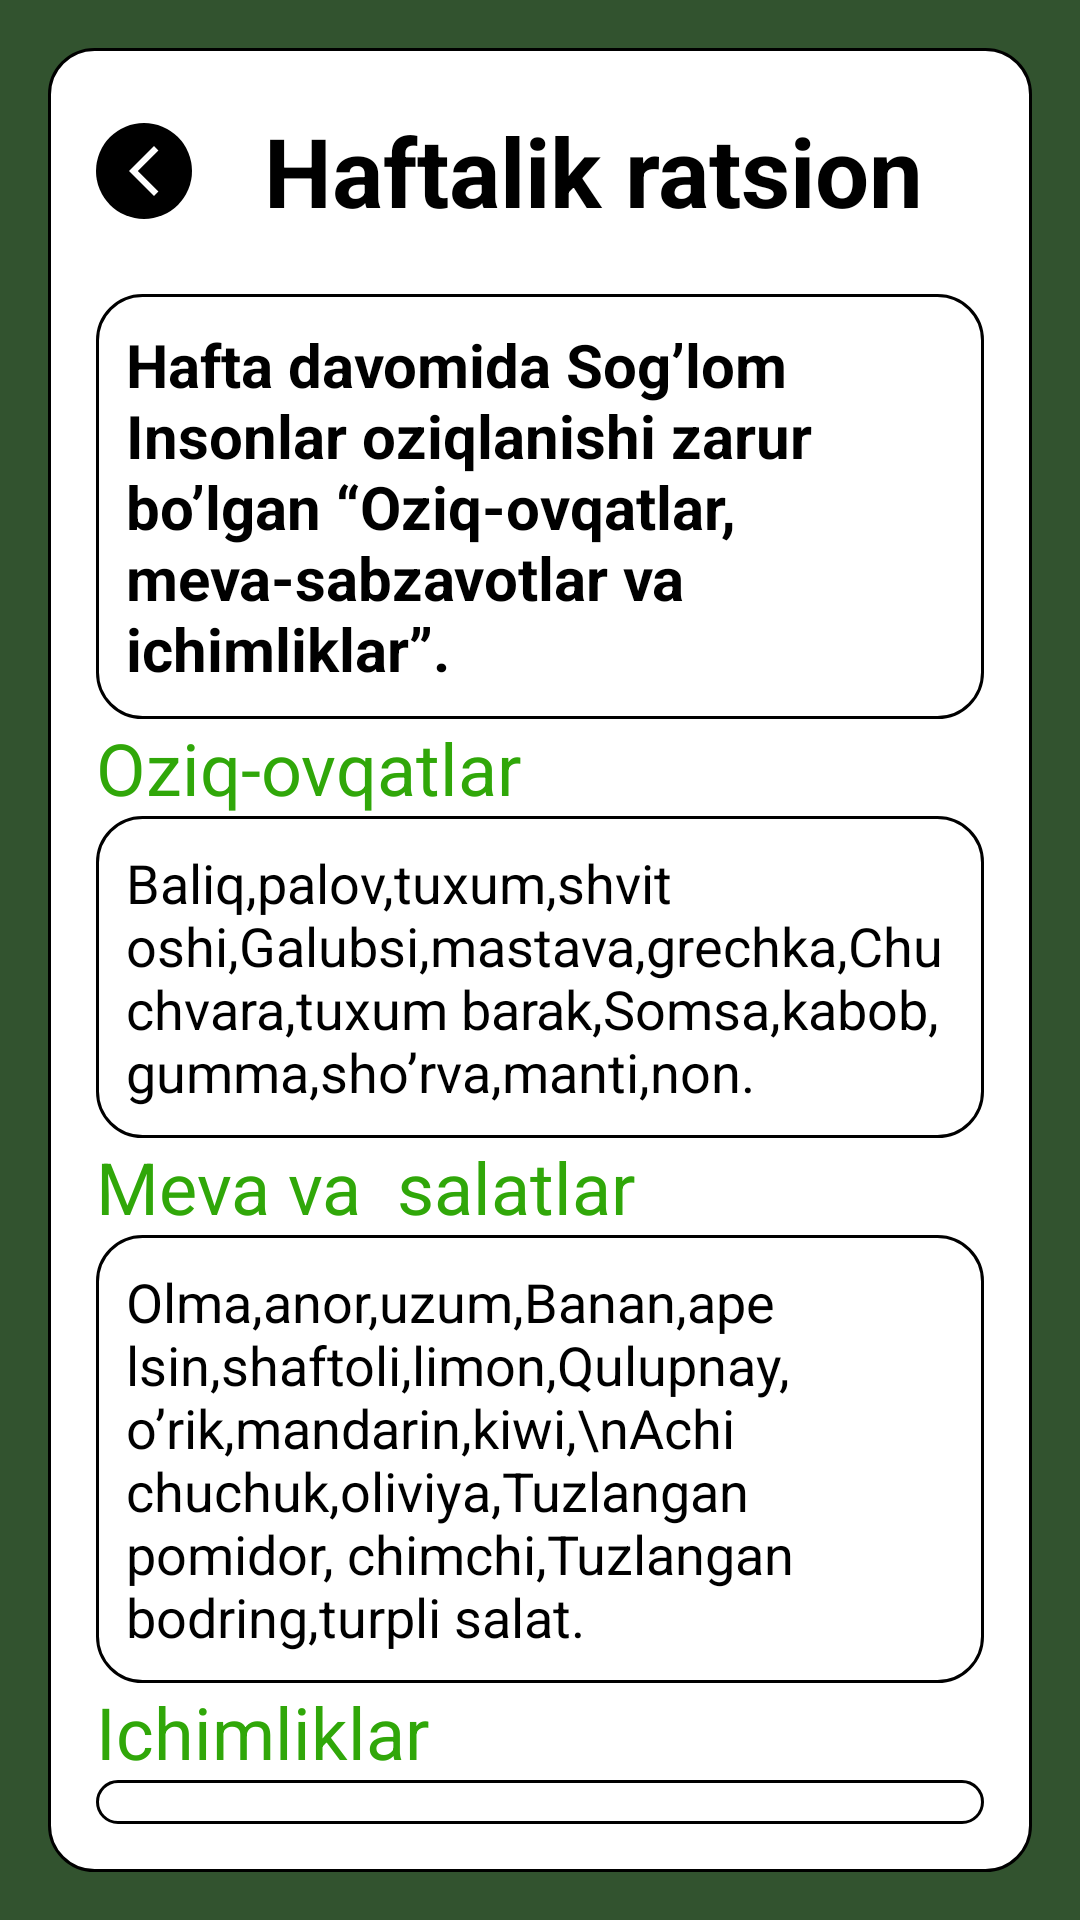

Screen size 1080 x 1920. Icon name, then its center in pixels as (x=x, y=y):
back: (x=144, y=171)
